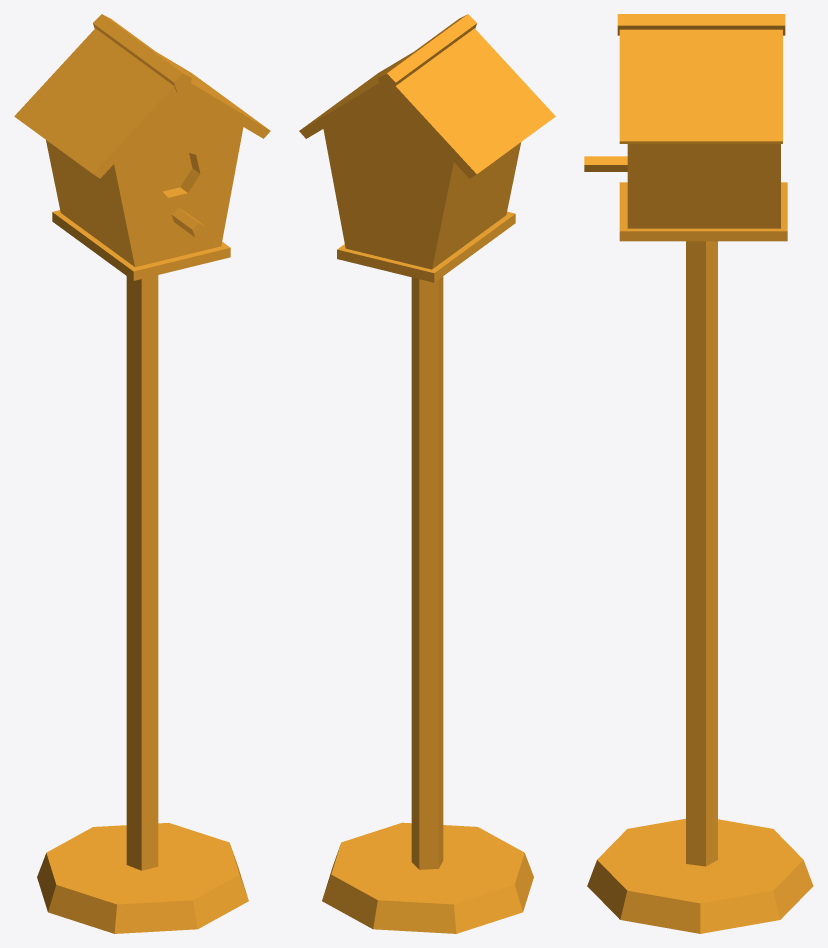
File: SM_Birdhouse_C.fbx
3 views of the same model, side by side, from view 1: azimuth 30°, elevation 25°; view 2: azimuth 150°, elevation 25°; view 3: azimuth 270°, elevation 25° (orthographic). The views are drawn at different scales.
Visible parts, largest first — view 1: birdhouse-c; view 2: birdhouse-c; view 3: birdhouse-c.
Boxes of the visible parts, bbox=[...] form: birdhouse-c: bbox=[14, 14, 270, 933]; birdhouse-c: bbox=[299, 14, 555, 933]; birdhouse-c: bbox=[584, 14, 813, 933].
Bounding box in the file's own units: 0.2824 × 1.2 × 0.2857.
